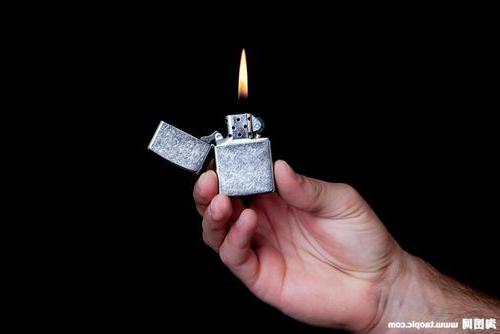fire: (225, 44, 265, 107)
